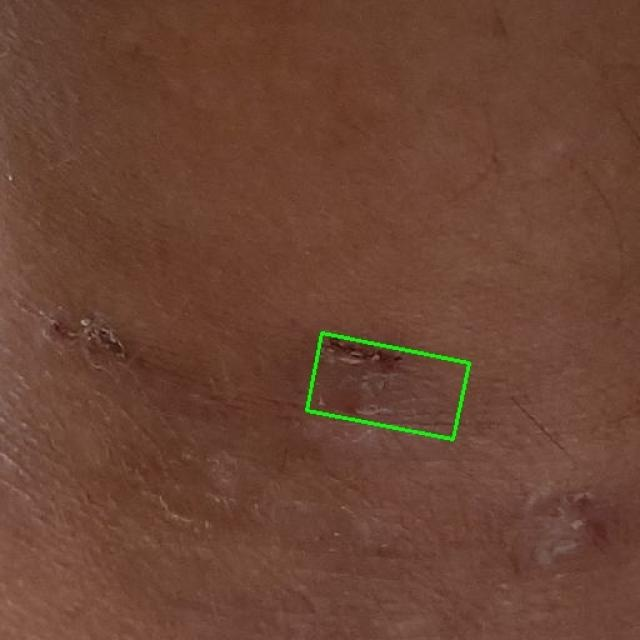Contact Dermatitis: (306, 333, 469, 439)
